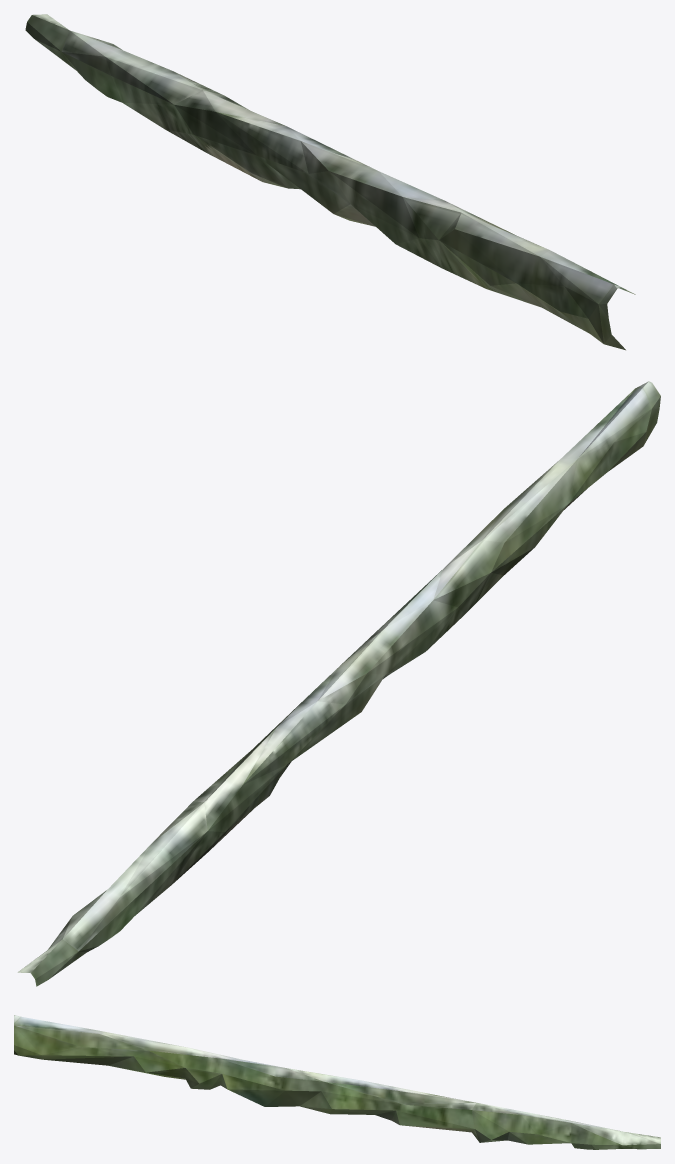
3 renders of one model, top to bottom at view 1: azimuth 30°, elevation 25°; view 2: azimuth 150°, elevation 25°; view 3: azimuth 270°, elevation 25°, orthographic. The views are drawn at different scales.
Bounding box in the file's own units: 0.5123 × 1.15 × 5.9.
1 material, 1 textured.
